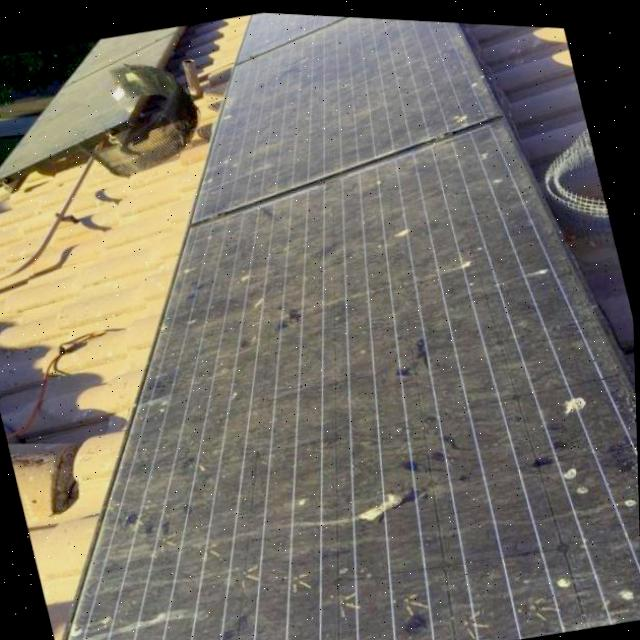Anomaly Solar Panel: (61, 112, 640, 640), (191, 9, 506, 218), (0, 24, 182, 177)
Surface Contaminant: (67, 114, 640, 640), (197, 12, 500, 216), (0, 24, 180, 176), (243, 9, 343, 54)
